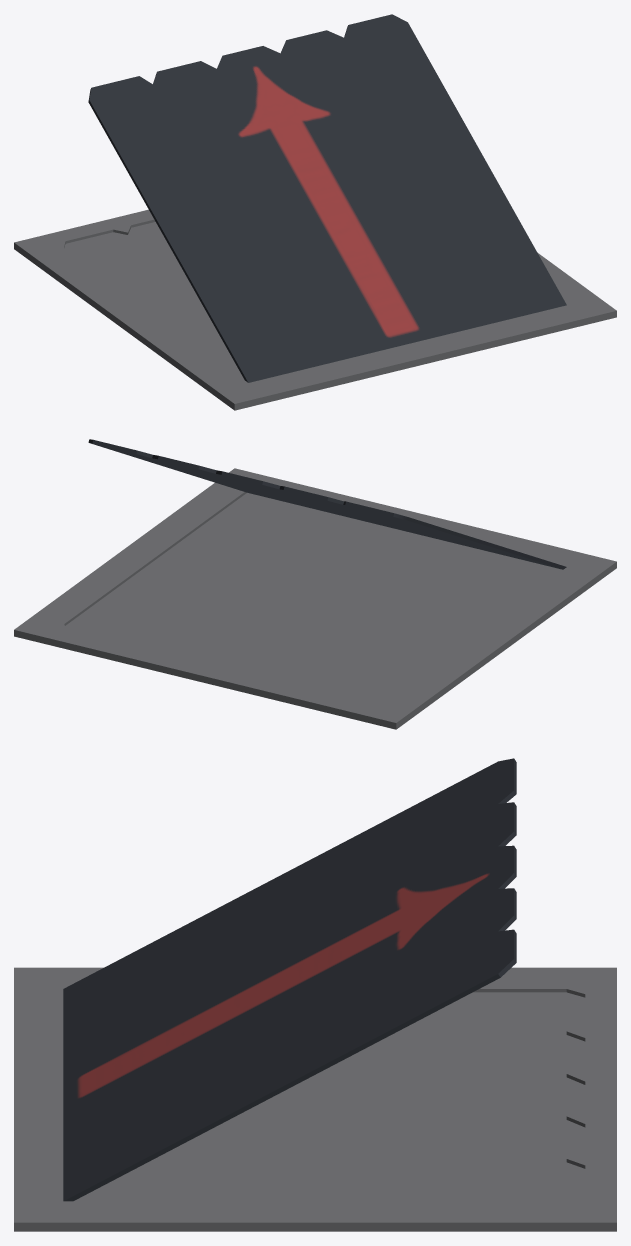
File: Ramp_V4.fbx
3 renders of one model, top to bottom at view 1: azimuth 30°, elevation 25°; view 2: azimuth 150°, elevation 25°; view 3: azimuth 270°, elevation 25°, orthographic. The views are drawn at different scales.
Visible parts, largest first — view 1: Ramp, Trap_Base; view 2: Trap_Base, Ramp; view 3: Trap_Base, Ramp.
Boxes of the visible parts, x1=… form: Ramp: x1=88, y1=14, x2=566, y2=382; Trap_Base: x1=14, y1=209, x2=616, y2=410; Trap_Base: x1=14, y1=468, x2=616, y2=729; Ramp: x1=88, y1=439, x2=566, y2=569; Trap_Base: x1=14, y1=967, x2=616, y2=1231; Ramp: x1=63, y1=758, x2=516, y2=1201.
Bounding box in the file's own units: 0.12 × 0.0538 × 0.12.
